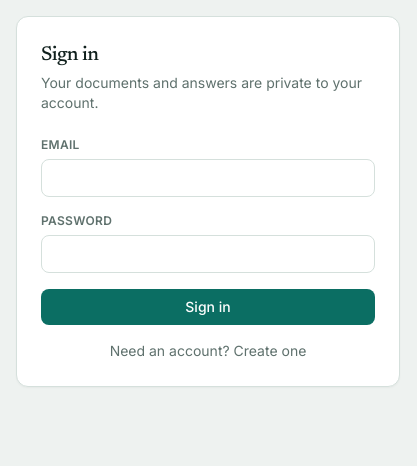
Test: AuthView › reports an unreachable backend distinctly from bad credentials
Expected: the heading "Sign in" is shown, [41, 45, 98, 65]
Type "ada@example.com" into the field labelled "Email" at (208, 178), box [41, 159, 375, 197]
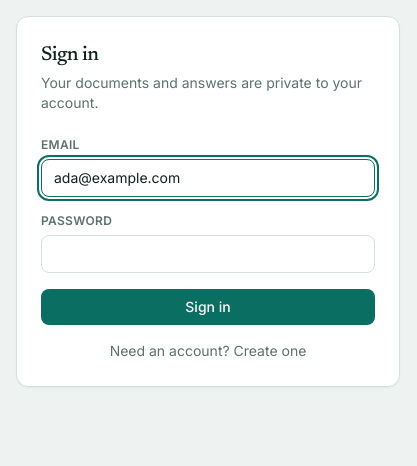
Type "correct-horse" into the password field labelled "Password" at (208, 254), box [41, 235, 375, 273]
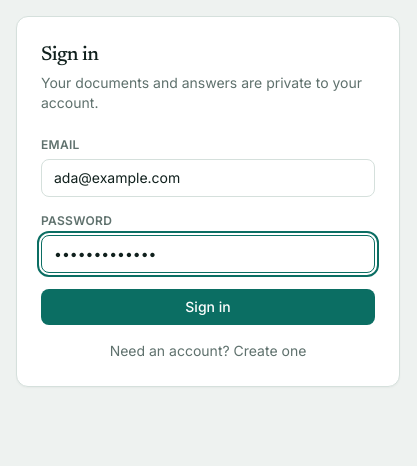
Click the button "Sign in" at (208, 307), box [41, 289, 375, 325]
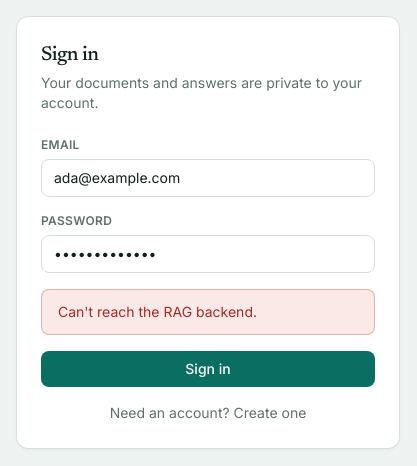
Now the message shows "Can't reach the RAG backend", box [58, 303, 257, 320]
